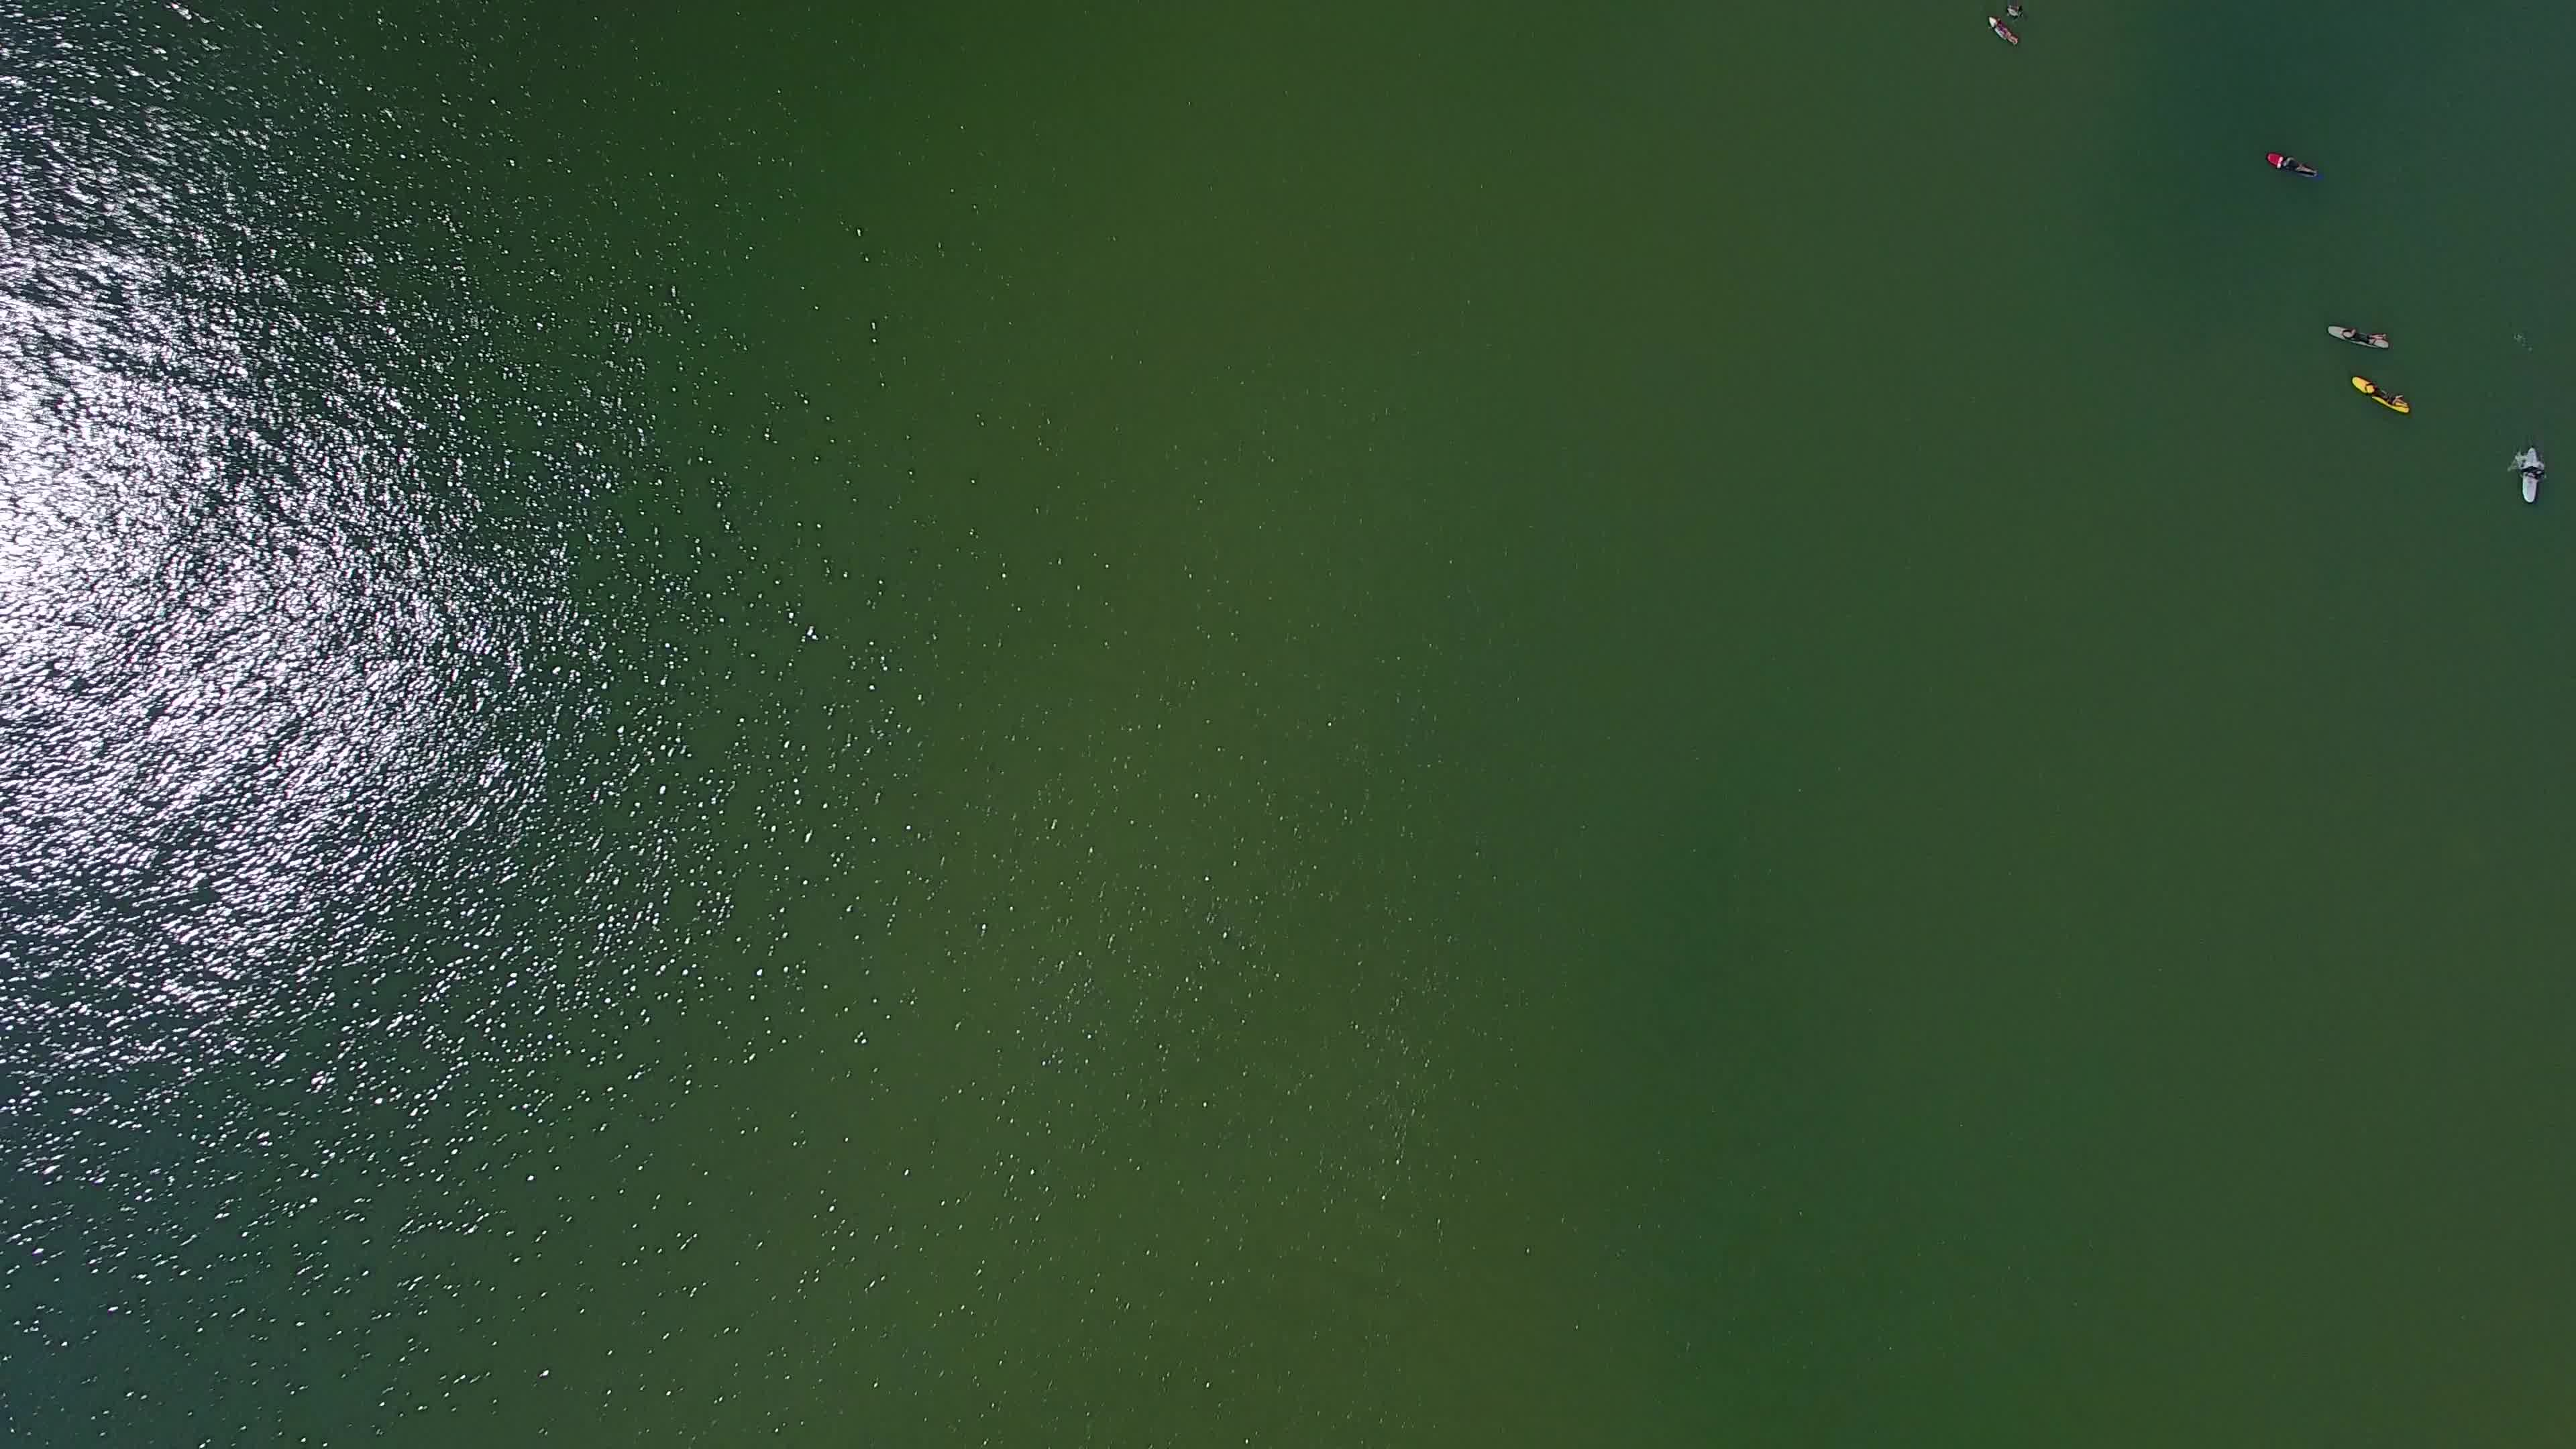surfer: (2342, 372, 2420, 419), (2512, 439, 2553, 513), (2263, 145, 2327, 191), (2328, 315, 2396, 356), (1978, 18, 2024, 48), (2005, 0, 2028, 23)
